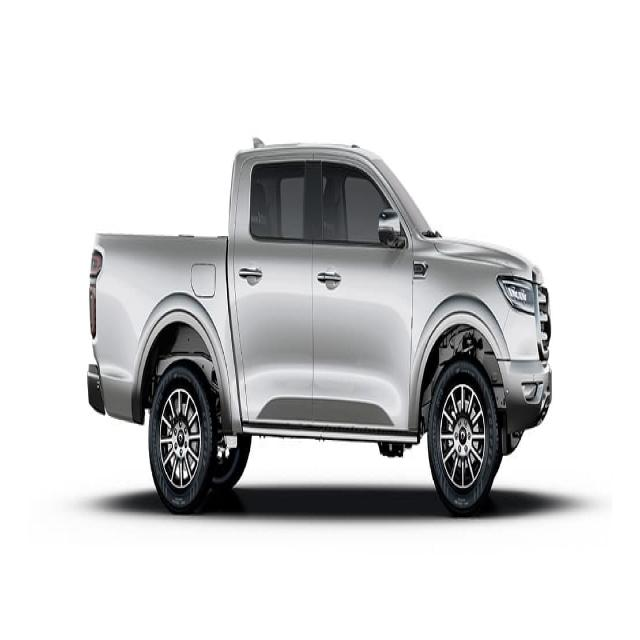CMT: (82, 139, 561, 517)
